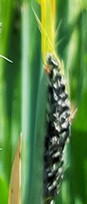Wheat Loose Smut: (34, 51, 77, 203)
